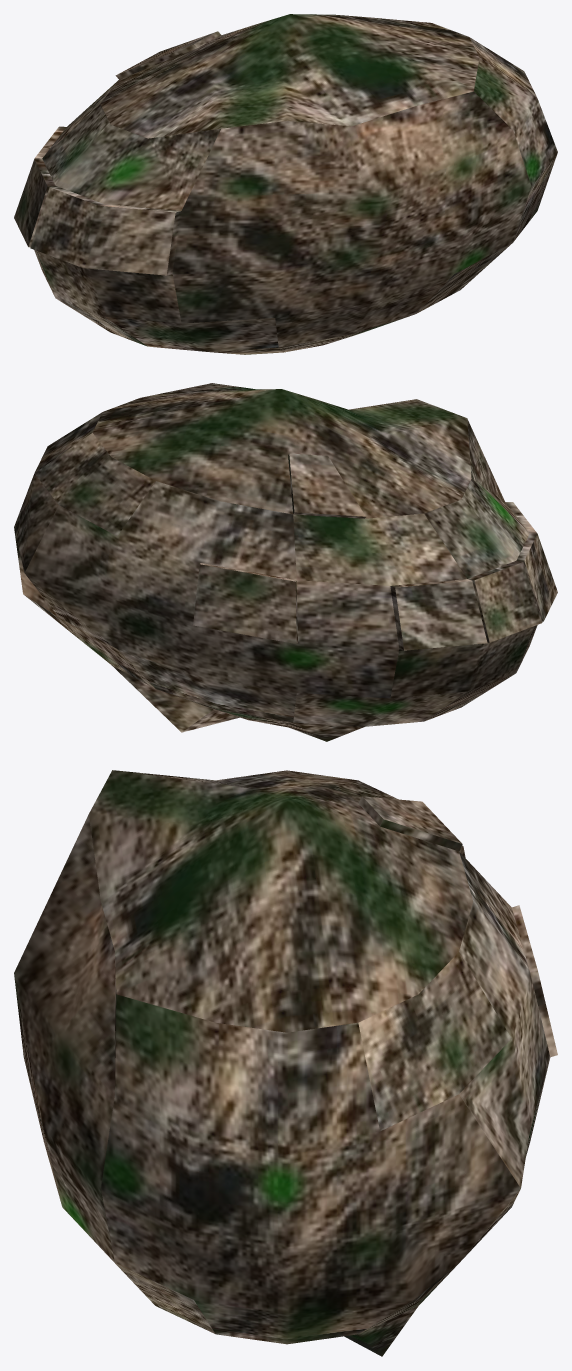
The model's file is stone2.fbx.
The picture shows the model from 3 angles, top to bottom: view 1: azimuth 30°, elevation 25°; view 2: azimuth 150°, elevation 25°; view 3: azimuth 270°, elevation 25°; orthographic projection. The views are drawn at different scales.
Parts seen in each view (by area): view 1: Sphere001; view 2: Sphere001; view 3: Sphere001.
Part boxes in pixels (x1,y1,x2,y2): Sphere001: [14, 14, 557, 354]; Sphere001: [14, 383, 557, 741]; Sphere001: [14, 770, 557, 1356].
Bounding box in the file's own units: 218 × 136 × 133.
1 material, 1 textured.
